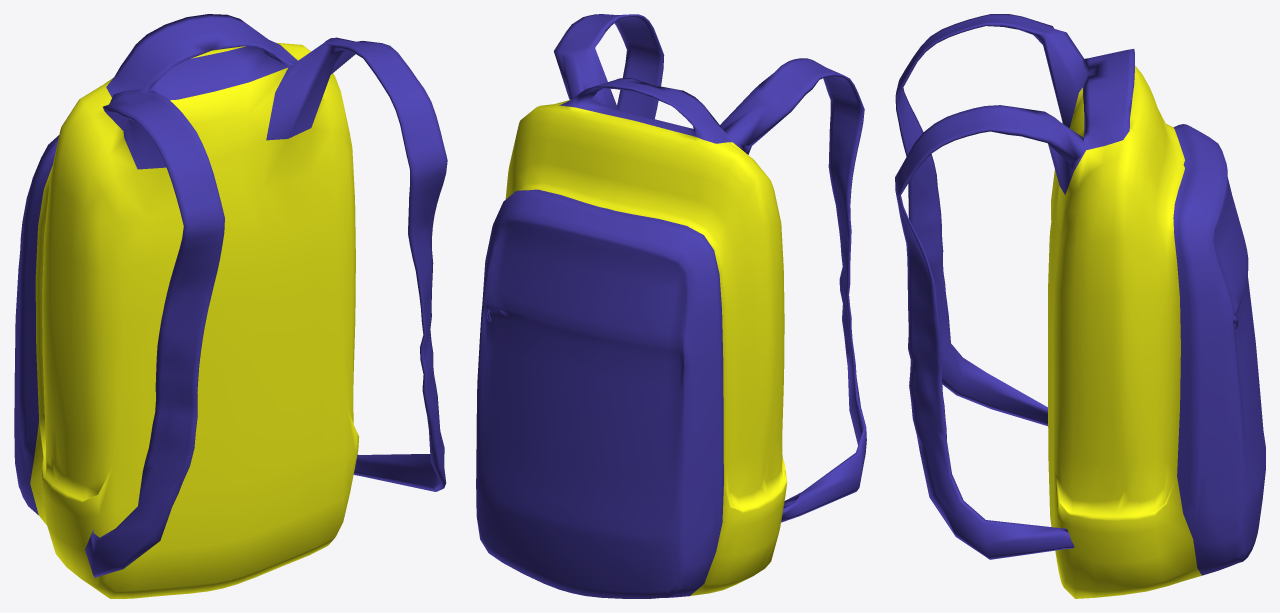
Rendered from BackpackFinal.FBX.
The picture shows the model from 3 angles, left to right: view 1: azimuth 30°, elevation 25°; view 2: azimuth 150°, elevation 25°; view 3: azimuth 270°, elevation 25°; orthographic projection. The views are drawn at different scales.
Visible parts, largest first — view 1: Backpack; view 2: Backpack; view 3: Backpack.
Boxes of the visible parts, box(x1,y1,x2,y2) form: Backpack: box(14, 14, 447, 598); Backpack: box(476, 14, 866, 598); Backpack: box(895, 14, 1265, 598).
Bounding box in the file's own units: 183 × 273 × 183.
